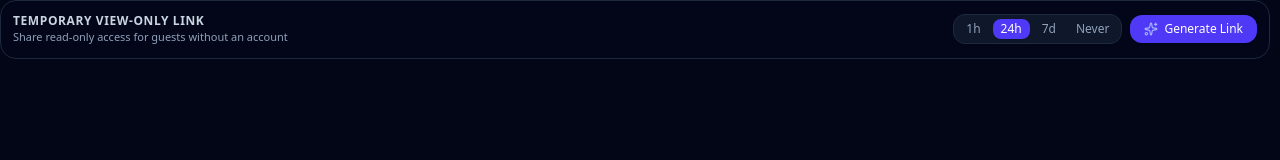
Test: TemporaryLinkGenerator Component › copies link to clipboard when Copy Link is clicked
This screenshot has width=1280, height=160.
Click the button "Generate Link": (1194, 29) left=1130, top=15, right=1257, bottom=43
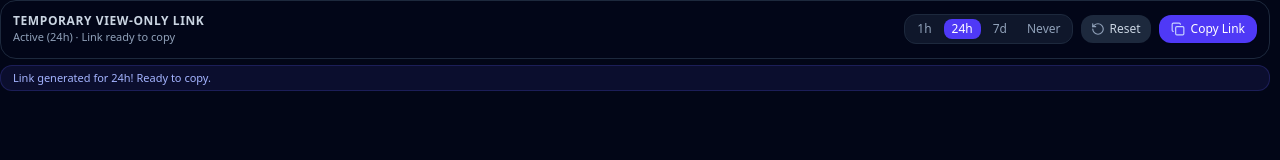
Now the button "Copy Link" is shown
Click the button "Copy Link": (1208, 29) left=1159, top=15, right=1257, bottom=43
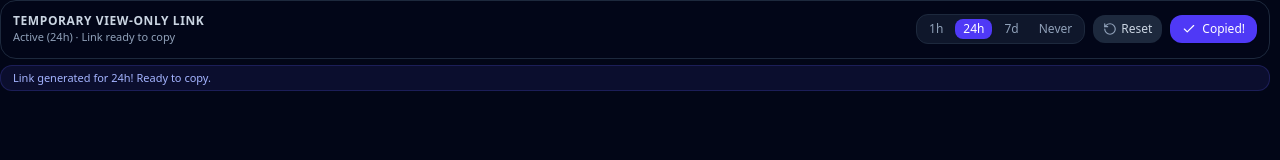
Now the text "Copied!" is shown, box left=1202, top=21, right=1245, bottom=37
